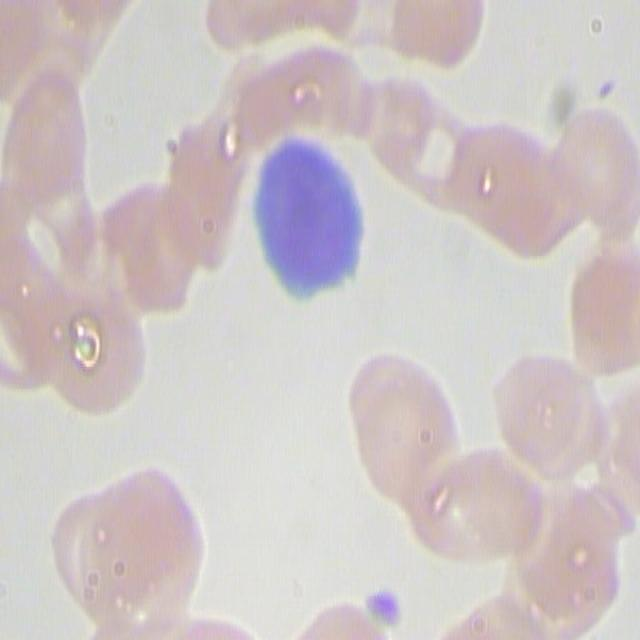RBC: (54, 459, 203, 636), (173, 48, 370, 178), (0, 84, 97, 317), (448, 100, 586, 256), (344, 348, 464, 508), (507, 479, 622, 636), (96, 168, 207, 324), (491, 354, 611, 494), (407, 447, 542, 569), (29, 283, 144, 425), (364, 69, 471, 205), (2, 7, 142, 108), (555, 90, 640, 237), (178, 4, 370, 62), (344, 0, 489, 75), (477, 592, 568, 640), (278, 594, 362, 640)
WBC: (244, 114, 367, 320)
platelets: (357, 574, 407, 639)
